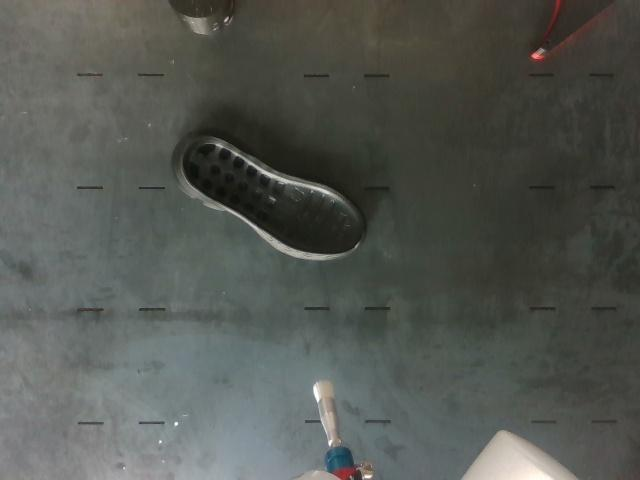shoes: (182, 136, 364, 254)
